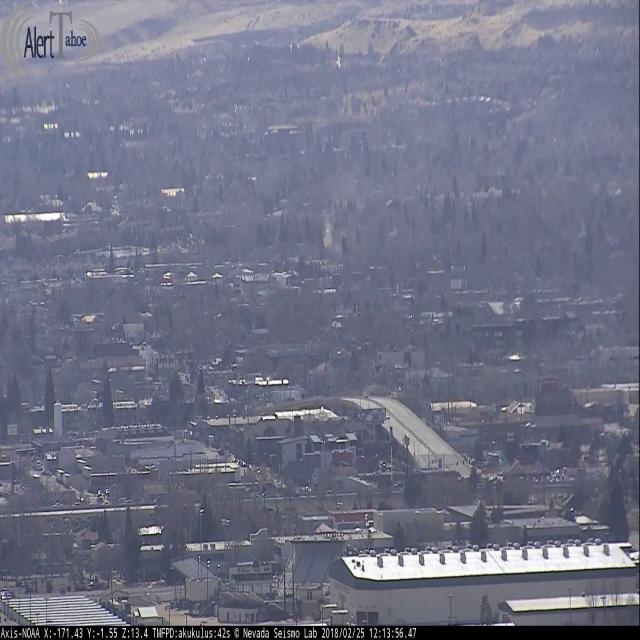smoke: (319, 208, 344, 258)
